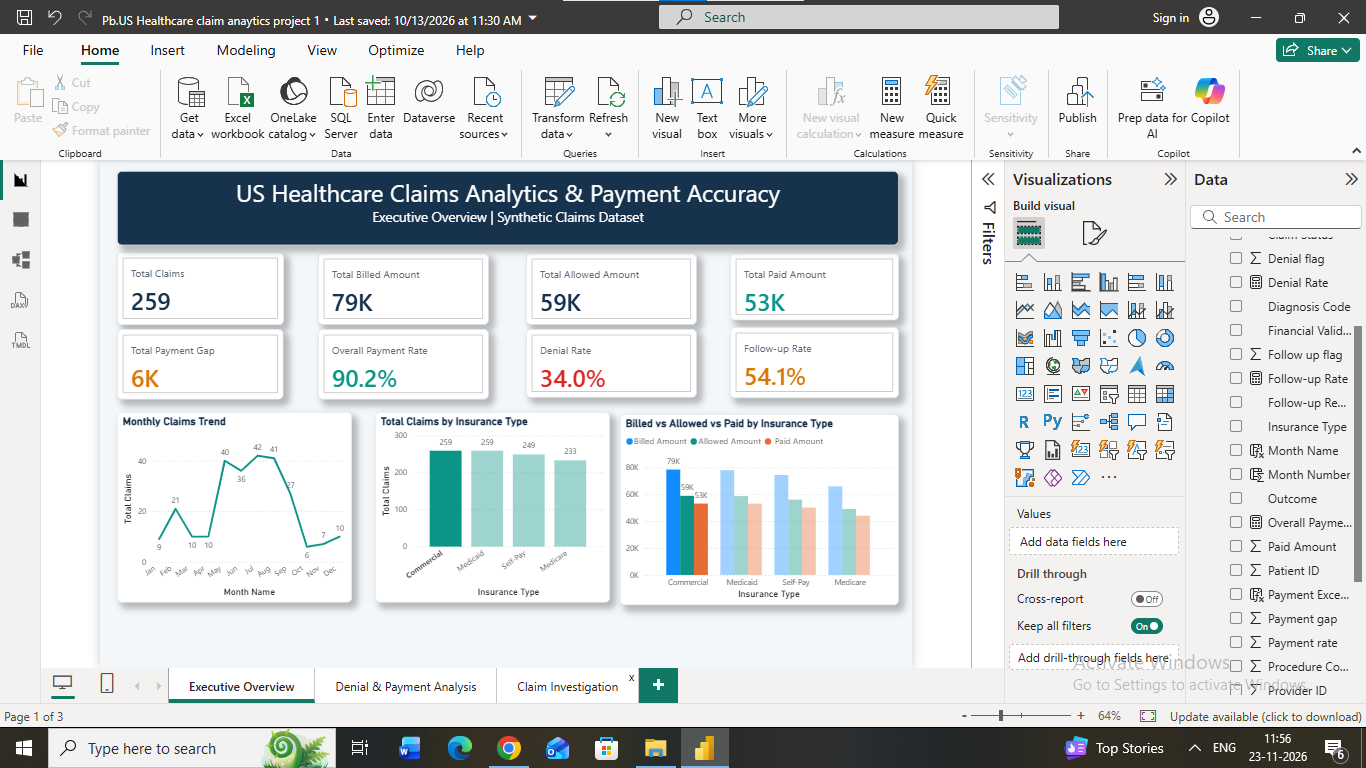

This screenshot's page, from the dashboard's own definition file:
{"tool":"powerbi","page":{"name":"Executive Overview","canvas":[1280,800],"ordinal":0},"visuals":[{"type":"cardVisual","fields":{"Data":["claim_data.Total Claims"]},"box":[26.8,144.9,263,115],"z":0},{"type":"cardVisual","fields":{"Data":["claim_data.Total Billed Amount","claim_data.Total Billed Amount"]},"box":[343,146,269.3,113.4],"z":1000},{"type":"cardVisual","fields":{"Data":["claim_data.Total Allowed Amount"]},"box":[670.4,146,269.3,113.4],"z":2000},{"type":"cardVisual","fields":{"Data":["claim_data.Total Paid Amount"]},"box":[992.1,146,266.5,106.3],"z":3000},{"type":"cardVisual","fields":{"Data":["claim_data.Total Payment Gap"]},"box":[27.4,266.4,262.1,110.9],"z":4000},{"type":"cardVisual","fields":{"Data":["claim_data.Overall Payment Rate"]},"box":[342.7,266.4,269.3,110.9],"z":5000},{"type":"cardVisual","fields":{"Data":["claim_data.Denial Rate"]},"box":[671,266.4,269.3,108],"z":6000},{"type":"cardVisual","fields":{"Data":["claim_data.Follow-up Rate"]},"box":[992.1,263,266.1,111.8],"z":7000},{"type":"textbox","box":[26.8,17.3,1231.5,116.5],"z":8000},{"type":"lineChart","title":"Monthly Claims Trend","fields":{"Y":["claim_data.Total Claims"],"Category":["claim_data.Month Name"]},"box":[26.9,396.9,370,300],"z":9000},{"type":"clusteredColumnChart","fields":{"Category":["claim_data.Insurance Type"],"Y":["claim_data.Total Claims"]},"box":[433.7,396.9,370,300],"z":10000},{"type":"clusteredColumnChart","title":" Billed vs Allowed vs Paid by Insurance Type","fields":{"Category":["claim_data.Insurance Type"],"Y":["Sum(claim_data.Billed Amount)","Sum(claim_data.Allowed Amount)","Sum(claim_data.Paid Amount)"]},"box":[818.9,400,439.4,300.8],"z":11000}]}

Visuals, with their boxes on the page's 1280x800 design canvas (x1, y1, x2, y2). These are canvas units, not pixel positions in the 1366x768 screenshot, which may show the page scaled, cropped or inside an application window:
cardVisual - claim_data.Total Claims: select_region(27, 145, 290, 260)
cardVisual - claim_data.Total Billed Amount x claim_data.Total Billed Amount: select_region(343, 146, 612, 259)
cardVisual - claim_data.Total Allowed Amount: select_region(670, 146, 940, 259)
cardVisual - claim_data.Total Paid Amount: select_region(992, 146, 1259, 252)
cardVisual - claim_data.Total Payment Gap: select_region(27, 266, 290, 377)
cardVisual - claim_data.Overall Payment Rate: select_region(343, 266, 612, 377)
cardVisual - claim_data.Denial Rate: select_region(671, 266, 940, 374)
cardVisual - claim_data.Follow-up Rate: select_region(992, 263, 1258, 375)
textbox: select_region(27, 17, 1258, 134)
"Monthly Claims Trend" lineChart: select_region(27, 397, 397, 697)
clusteredColumnChart - claim_data.Insurance Type x claim_data.Total Claims: select_region(434, 397, 804, 697)
" Billed vs Allowed vs Paid by Insurance Type" clusteredColumnChart: select_region(819, 400, 1258, 701)
